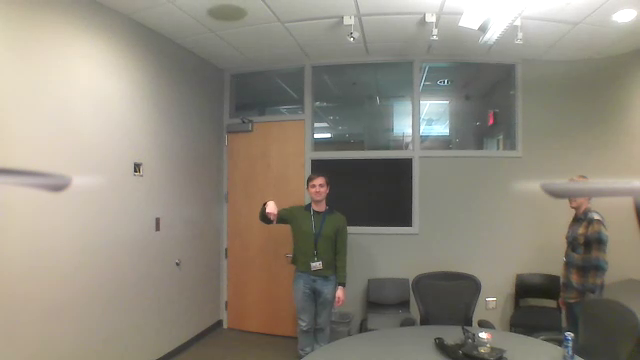down: (261, 202, 283, 230)
